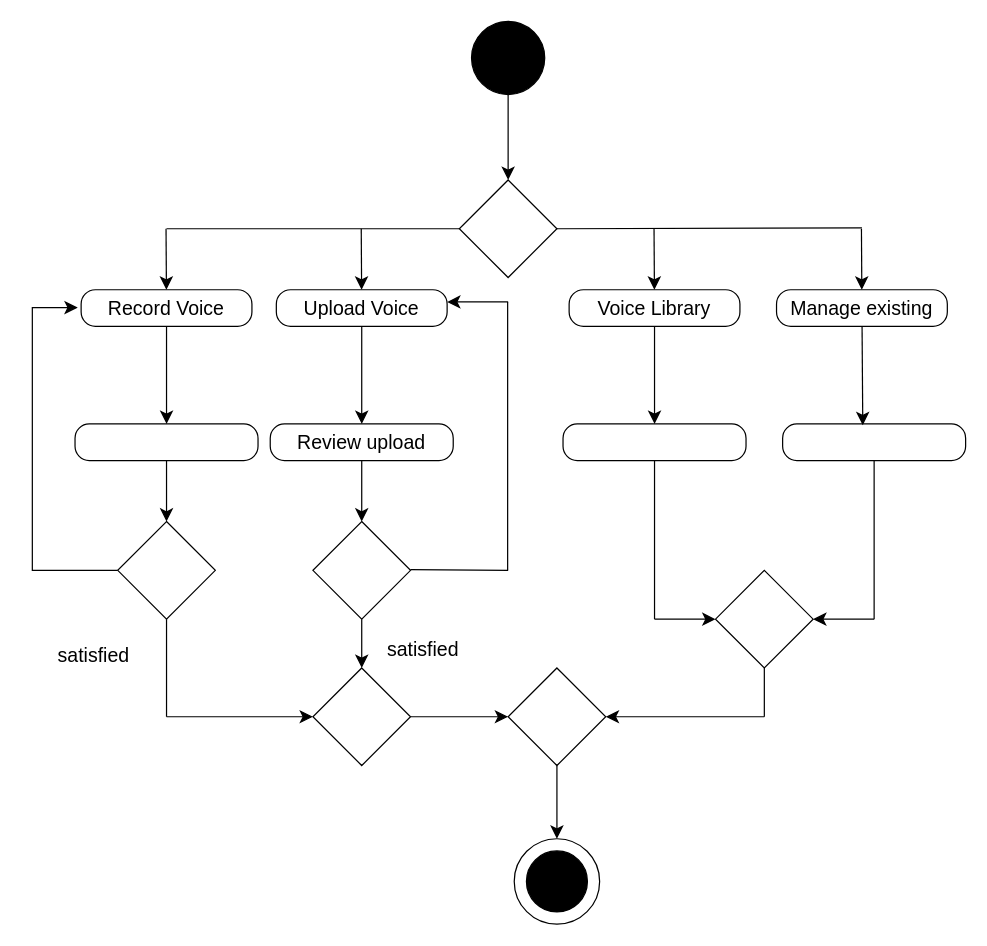
Image size: 987x946. Some labels were removed from this diagram. Here are the shapes that lost their labels. From the top down, the centre of each, then its label:
At pixel 166 442: "Review recording".
At pixel 654 442: "Select Voice".
At pixel 873 442: "update".
